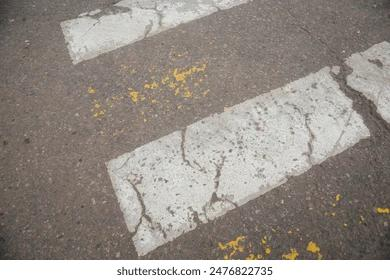faded_road_lines: (106, 66, 370, 256), (61, 0, 252, 64), (345, 42, 389, 122)
